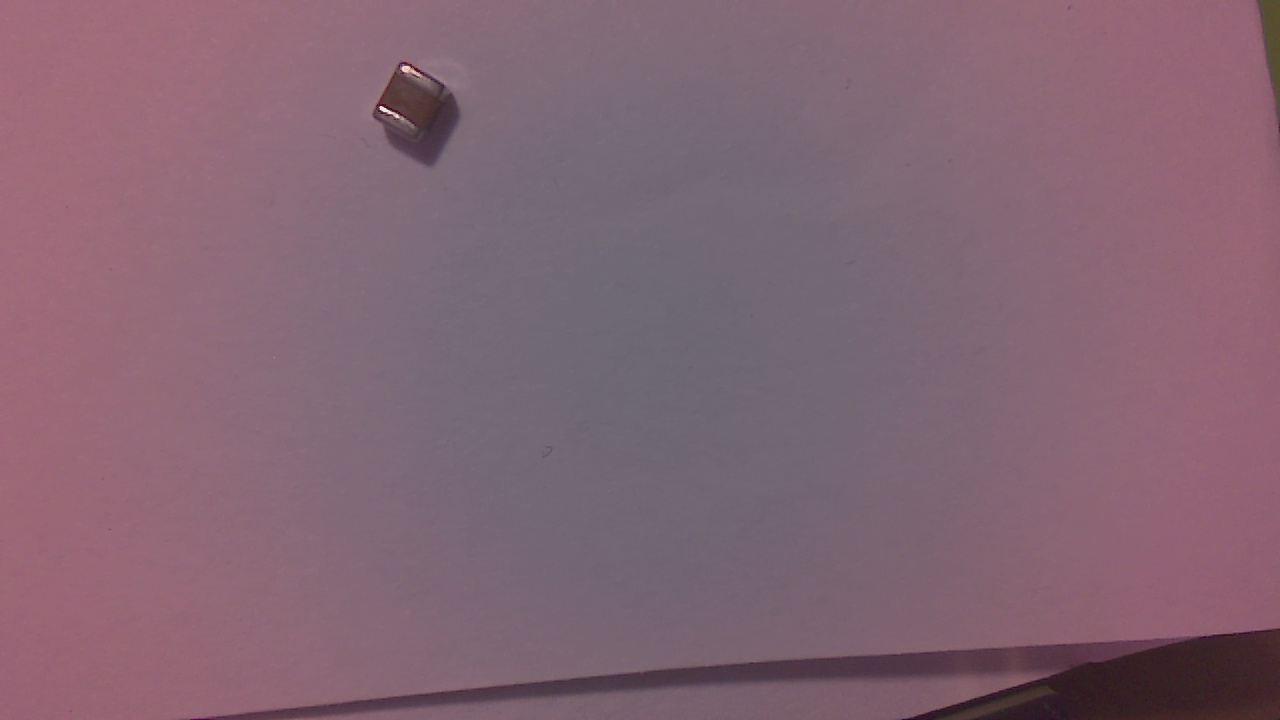Condensator: (380, 66, 452, 140)
